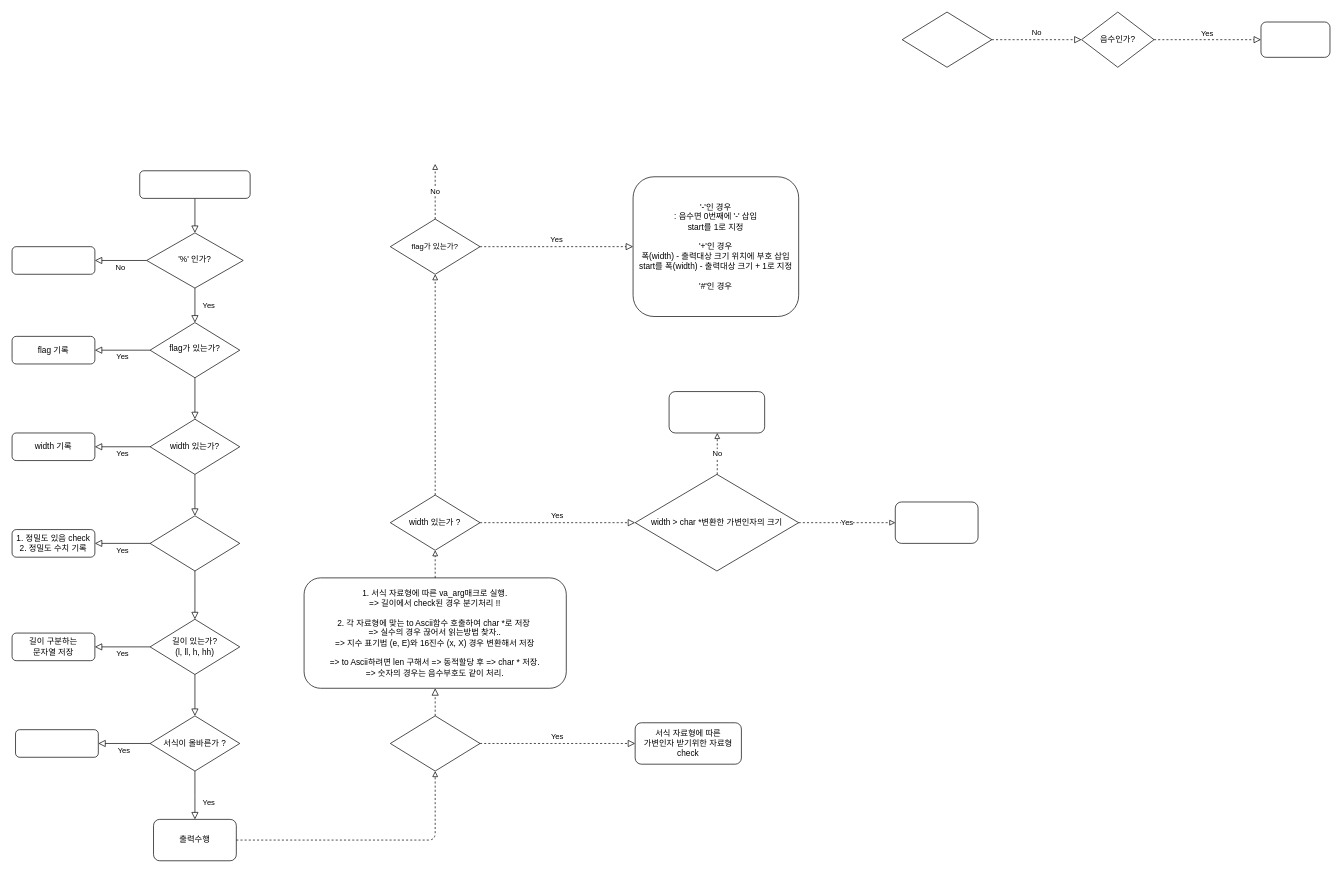
Some shapes in this 1342 by 873 pixel diagram are drawn without their labels. Each missing label, with the centre of its shape:
"char *크기만큼 동적할당" goes at (x=716, y=412).
"Error" goes at (x=56, y=743).
"width만큼 동적할당" goes at (x=936, y=522).
"write" goes at (x=53, y=260).
"길이 있는가 ?" goes at (x=435, y=743).
"문자열 해석" goes at (x=194, y=184).
"문자열인가 ?" goes at (x=946, y=39).
"음수임을 check" goes at (x=1295, y=39).
"정밀도(.) 있는가?" goes at (x=194, y=543).
